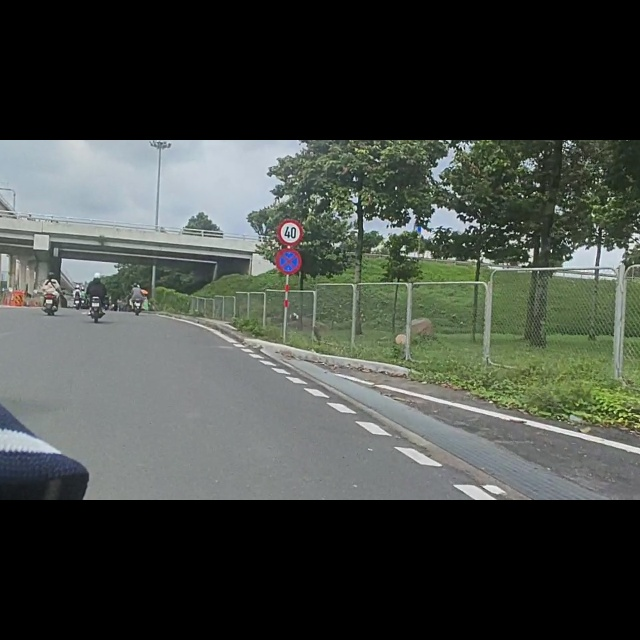bien_cam: (275, 192, 303, 241), (278, 141, 303, 186)
